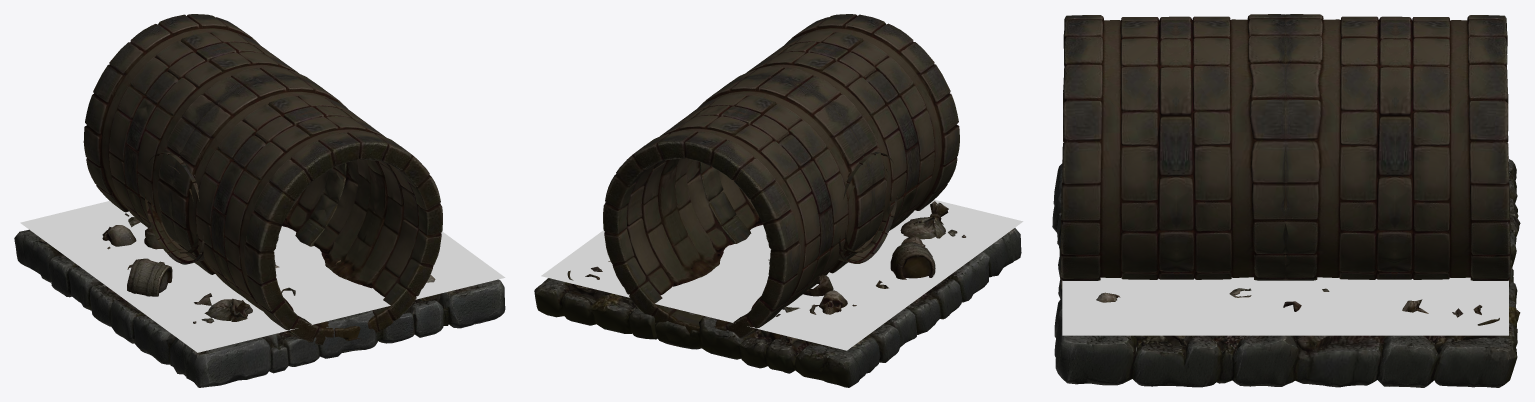
File: Crawlspace_Pipe_Straight_04.fbx
3 renders of one model, left to right at view 1: azimuth 30°, elevation 25°; view 2: azimuth 150°, elevation 25°; view 3: azimuth 270°, elevation 25°, orthographic. The views are drawn at different scales.
Visible parts, largest first — view 1: CrawlSpace_Pipe_Straight_04; view 2: CrawlSpace_Pipe_Straight_04; view 3: CrawlSpace_Pipe_Straight_04.
Part boxes in pixels (box(x1,y1,x2,y2)): CrawlSpace_Pipe_Straight_04: box(14, 14, 505, 387); CrawlSpace_Pipe_Straight_04: box(534, 14, 1023, 387); CrawlSpace_Pipe_Straight_04: box(1052, 14, 1520, 387).
Size of the model in its own units: 312 by 196 by 314.
Materials: 5 (3 with a texture image).
